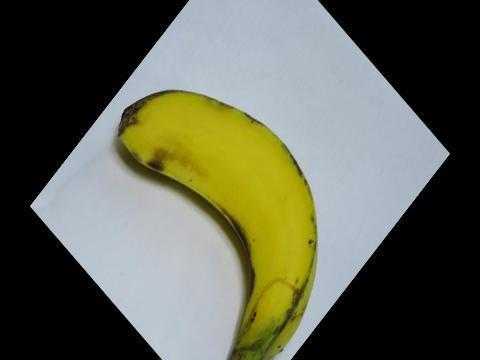freshripe: (104, 78, 328, 359)
